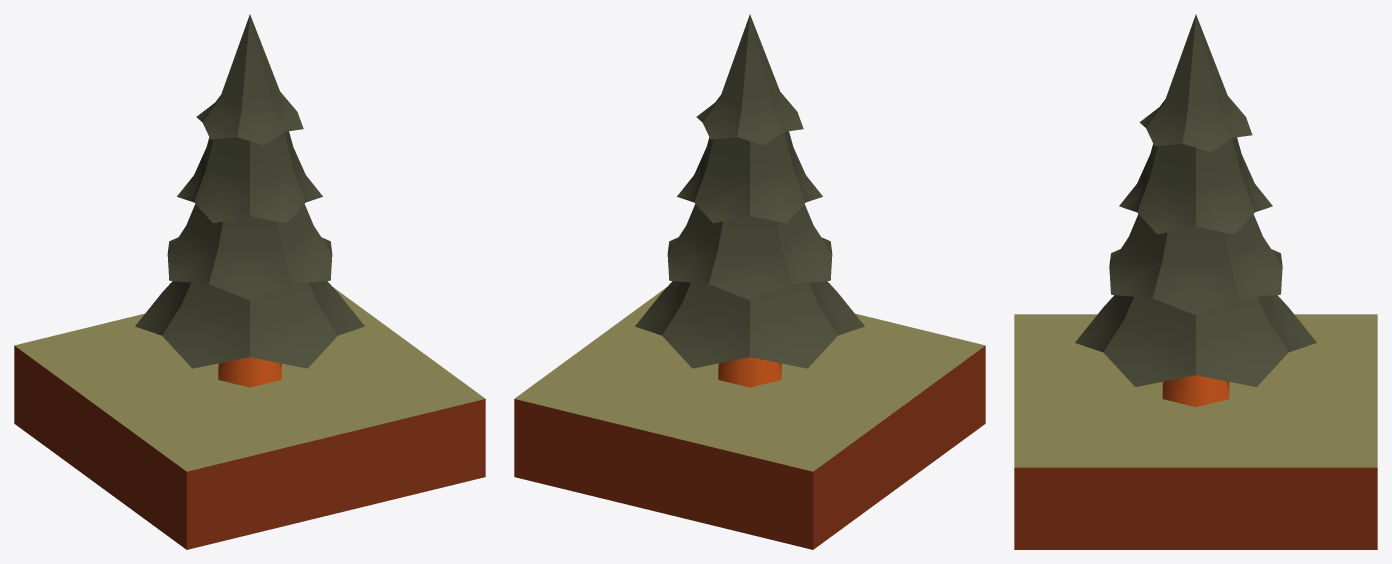
Rendered from pine.fbx.
3 renders of one model, left to right at view 1: azimuth 30°, elevation 25°; view 2: azimuth 150°, elevation 25°; view 3: azimuth 270°, elevation 25°, orthographic. The views are drawn at different scales.
Parts seen in each view (by area): view 1: pine; view 2: pine; view 3: pine.
Part boxes in pixels (x1,y1,x2,y2): pine: (14, 14, 485, 549); pine: (514, 14, 985, 549); pine: (1014, 14, 1377, 549).
Bounding box in the file's own units: 200 × 279 × 200.
Materials: 1 (1 with a texture image).
